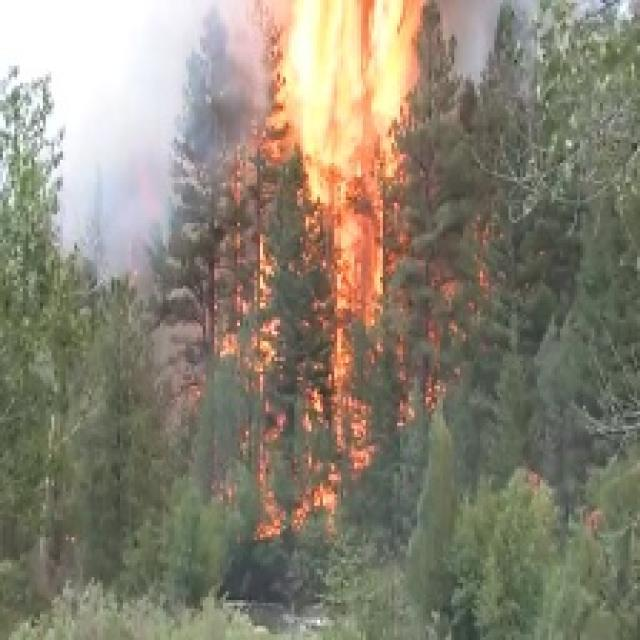Fire: (186, 0, 534, 549)
Smoke: (61, 1, 182, 291)
